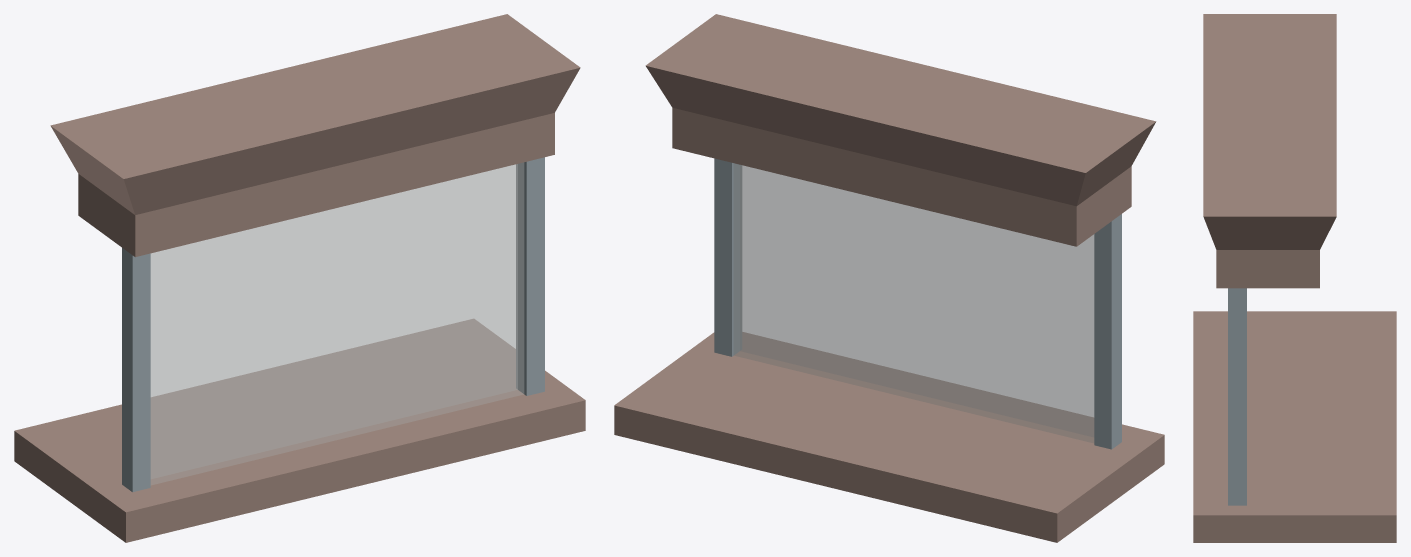
Rendered from window.fbx.
3 views of the same model, side by side, from view 1: azimuth 30°, elevation 25°; view 2: azimuth 150°, elevation 25°; view 3: azimuth 270°, elevation 25° (orthographic). The views are drawn at different scales.
Parts seen in each view (by area): view 1: polySurface2; view 2: polySurface2; view 3: polySurface2.
Boxes of the visible parts, x1,y1,x2,y2 form: polySurface2: (14,14,585,542); polySurface2: (614,14,1164,542); polySurface2: (1193,14,1396,542).
Bounding box in the file's own units: 1.26 × 0.94 × 0.53.
